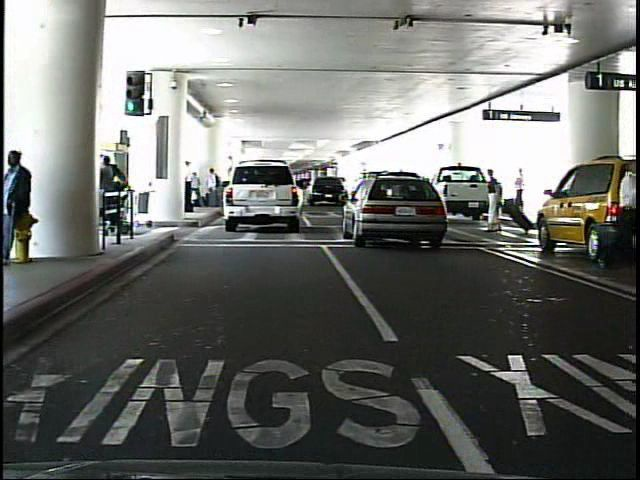person: (3, 148, 42, 266), (611, 156, 640, 262), (486, 166, 506, 233), (516, 166, 529, 216), (209, 167, 223, 209)
